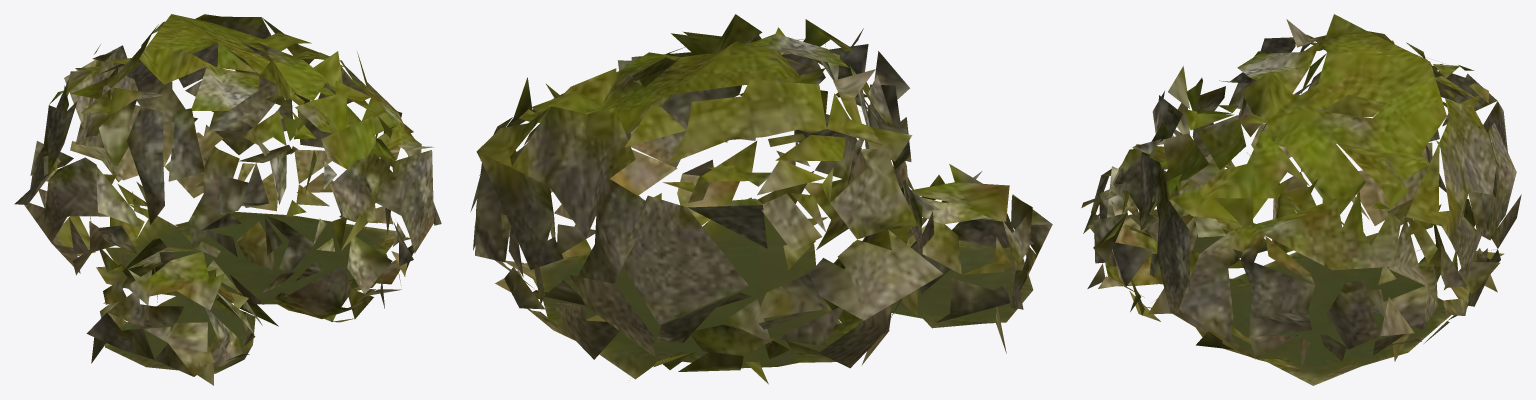
The model's file is pedra_grande_lod2.glb.
3 renders of one model, left to right at view 1: azimuth 30°, elevation 25°; view 2: azimuth 150°, elevation 25°; view 3: azimuth 270°, elevation 25°, orthographic. The views are drawn at different scales.
Visible parts, largest first — view 1: pedra_grande; view 2: pedra_grande; view 3: pedra_grande.
Part boxes in pixels (box(x1,y1,x2,y2)): pedra_grande: box(14, 14, 441, 385); pedra_grande: box(470, 14, 1052, 384); pedra_grande: box(1081, 14, 1521, 385).
Bounding box in the file's own units: 3.47 × 2.14 × 3.29.
Materials: 1 (1 with a texture image).
